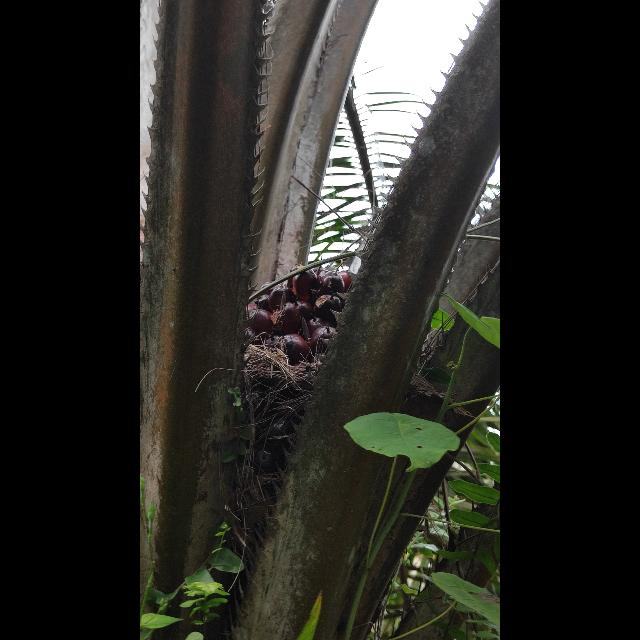Unripe: (244, 256, 359, 373)
